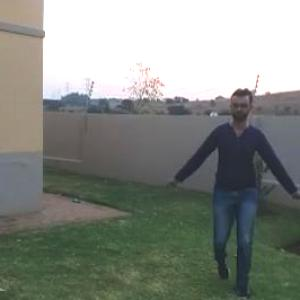land: (176, 86, 299, 299)
